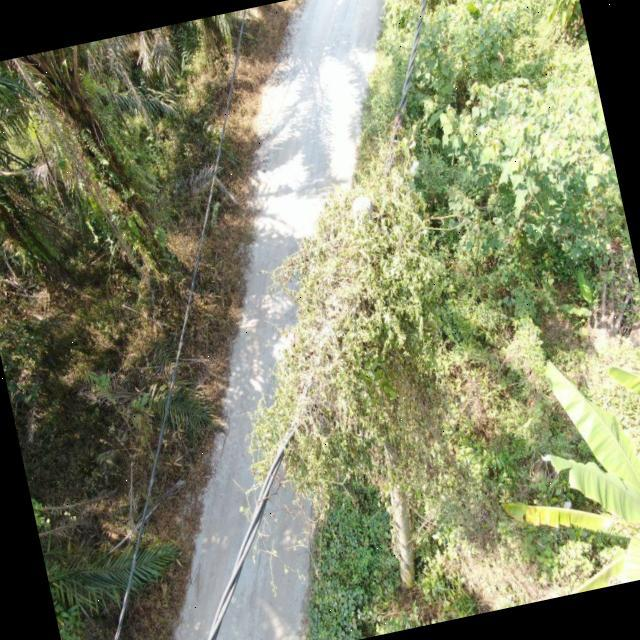critical vegetation: (186, 104, 494, 530)
